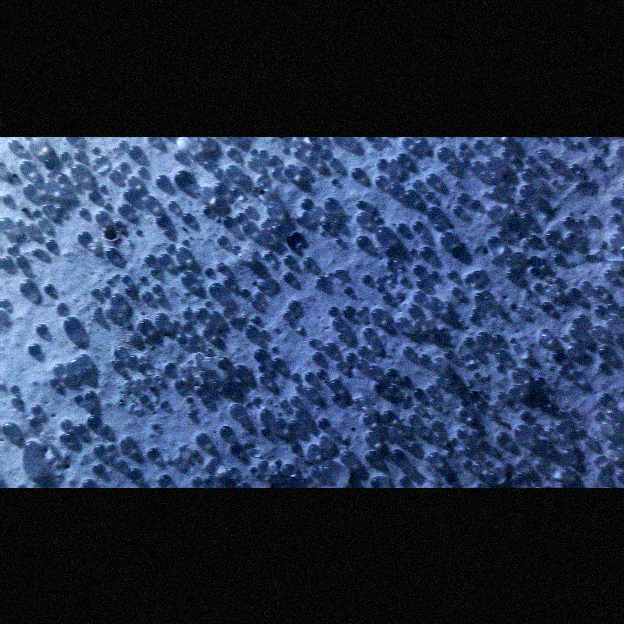GrassBeadSeg: (319, 459, 340, 479), (367, 307, 387, 322), (171, 169, 190, 184), (285, 231, 301, 248), (509, 366, 527, 381), (207, 282, 225, 297), (373, 226, 392, 240), (434, 146, 451, 161), (26, 140, 45, 153), (512, 424, 528, 439), (223, 164, 240, 178), (62, 315, 79, 329), (484, 156, 502, 169), (120, 187, 138, 200), (89, 156, 107, 169), (197, 185, 212, 200), (264, 202, 280, 216), (437, 231, 453, 245), (139, 195, 156, 208), (152, 174, 169, 187), (117, 435, 134, 448), (226, 403, 243, 416), (338, 450, 355, 463), (152, 312, 169, 325), (505, 251, 522, 264), (229, 364, 247, 376), (542, 229, 558, 242), (18, 279, 34, 292), (172, 246, 188, 259), (125, 145, 141, 158), (385, 182, 401, 195), (108, 293, 124, 306), (280, 164, 296, 177), (18, 161, 34, 174), (603, 315, 619, 328), (0, 421, 16, 434), (416, 246, 433, 258), (339, 305, 356, 317), (353, 211, 370, 223), (135, 319, 152, 331), (586, 324, 603, 336), (485, 205, 502, 217), (563, 343, 580, 355), (257, 279, 274, 291), (322, 196, 337, 209), (242, 324, 257, 337), (75, 231, 91, 243), (192, 432, 208, 444), (102, 246, 118, 258), (424, 205, 440, 217), (519, 167, 535, 179), (73, 353, 89, 365), (362, 431, 378, 443), (85, 414, 101, 426), (566, 324, 582, 336), (392, 317, 409, 328), (192, 307, 206, 320), (252, 348, 266, 361), (25, 342, 40, 354), (93, 210, 108, 222), (153, 214, 168, 226), (111, 346, 126, 358), (216, 424, 231, 436), (360, 326, 375, 338), (239, 221, 254, 233), (308, 205, 323, 217), (353, 235, 369, 246), (562, 232, 578, 243), (504, 268, 520, 279), (595, 345, 611, 356), (533, 148, 549, 159), (329, 317, 345, 328), (388, 449, 404, 460), (413, 276, 430, 286), (486, 468, 499, 481), (327, 378, 340, 391), (468, 160, 481, 173), (402, 189, 415, 202), (179, 272, 192, 285), (212, 181, 225, 194), (298, 197, 312, 209), (155, 253, 169, 265), (295, 211, 307, 225), (299, 256, 314, 267), (410, 290, 425, 301), (518, 184, 533, 195), (405, 303, 420, 314), (590, 285, 605, 296), (77, 368, 92, 379), (270, 418, 285, 429), (270, 222, 285, 233), (115, 203, 131, 213), (564, 287, 580, 297), (53, 301, 66, 313), (13, 254, 26, 266), (426, 451, 438, 464), (72, 149, 85, 161), (493, 349, 505, 362), (405, 413, 419, 424), (51, 362, 65, 373), (394, 153, 408, 164), (214, 356, 228, 367), (0, 254, 11, 268), (279, 271, 294, 281), (409, 263, 424, 273), (423, 173, 438, 183), (518, 213, 533, 223), (107, 169, 122, 179), (533, 458, 545, 470), (494, 431, 506, 443), (406, 442, 418, 454), (363, 451, 375, 463), (368, 475, 380, 487), (380, 410, 392, 422), (361, 412, 373, 424), (318, 435, 330, 447), (315, 417, 327, 429), (280, 462, 292, 474), (322, 342, 334, 354), (431, 357, 443, 369), (474, 331, 486, 343), (455, 192, 468, 203), (550, 252, 563, 263), (209, 166, 222, 177), (199, 136, 212, 147), (238, 249, 251, 260), (178, 212, 192, 222), (460, 336, 474, 346), (281, 254, 295, 264), (223, 146, 237, 156), (398, 136, 412, 146), (312, 368, 326, 378), (286, 419, 300, 429), (244, 157, 258, 167), (601, 269, 615, 279), (431, 221, 445, 231), (449, 204, 463, 214), (456, 352, 470, 362), (383, 246, 397, 256), (506, 384, 521, 393), (214, 234, 226, 245), (305, 443, 316, 455), (203, 461, 214, 473), (228, 442, 239, 454), (158, 473, 170, 484), (126, 466, 138, 477), (374, 158, 386, 169), (349, 167, 361, 178), (43, 239, 56, 249), (33, 323, 46, 333), (470, 139, 483, 149), (393, 222, 406, 232), (172, 378, 185, 388), (257, 373, 270, 383), (318, 148, 331, 158), (110, 359, 123, 369), (200, 326, 213, 336), (292, 407, 305, 417), (126, 332, 139, 342), (220, 381, 233, 391), (460, 273, 473, 283), (444, 269, 458, 278), (220, 216, 234, 225), (265, 155, 279, 164), (0, 216, 11, 227), (92, 443, 103, 454), (91, 462, 102, 473), (42, 179, 53, 190), (374, 175, 385, 186), (221, 275, 232, 286), (142, 253, 154, 263), (409, 220, 421, 230), (162, 362, 174, 372), (0, 193, 12, 203), (327, 157, 339, 167), (179, 307, 191, 317), (174, 333, 186, 343), (27, 415, 39, 425), (72, 423, 84, 433), (58, 419, 70, 429), (23, 440, 35, 450), (607, 234, 619, 244), (548, 158, 560, 168), (448, 286, 461, 295), (28, 404, 41, 413), (440, 349, 453, 358), (588, 155, 601, 164), (125, 175, 138, 184), (171, 150, 184, 159), (268, 167, 281, 176), (433, 375, 446, 384), (331, 219, 344, 228), (153, 294, 166, 303), (80, 478, 93, 487), (215, 261, 226, 271), (190, 475, 200, 486), (145, 447, 156, 457), (40, 204, 51, 214), (87, 190, 98, 200), (7, 140, 18, 150), (21, 184, 32, 194), (207, 310, 217, 321), (180, 321, 190, 332), (258, 409, 269, 419), (304, 386, 315, 396), (373, 380, 384, 390), (507, 217, 517, 228), (314, 276, 325, 286), (41, 283, 53, 292), (326, 306, 338, 315), (517, 410, 529, 419), (297, 166, 309, 175), (499, 148, 511, 157), (115, 161, 127, 170), (467, 390, 479, 399), (200, 205, 212, 214), (83, 389, 95, 398), (495, 227, 507, 236), (163, 242, 175, 251), (55, 173, 67, 182), (354, 199, 366, 208), (188, 151, 200, 160), (194, 384, 206, 393), (164, 200, 177, 208), (577, 280, 590, 288), (29, 248, 42, 256), (514, 198, 527, 206), (96, 182, 106, 192), (71, 164, 81, 174), (288, 395, 298, 405), (271, 357, 281, 367), (288, 299, 298, 309), (302, 371, 312, 381), (311, 352, 321, 362), (344, 352, 354, 362), (411, 387, 421, 397), (417, 354, 427, 364), (401, 345, 411, 355), (76, 207, 87, 216), (135, 166, 146, 175), (47, 376, 58, 385), (359, 273, 370, 282), (233, 211, 244, 220), (329, 392, 340, 401), (366, 365, 377, 374), (585, 136, 599, 143), (135, 393, 147, 401), (161, 227, 173, 235), (425, 270, 437, 278), (187, 335, 199, 343), (474, 400, 486, 408), (233, 379, 245, 387), (119, 273, 129, 282), (373, 283, 383, 292), (126, 354, 136, 363), (614, 470, 623, 480), (614, 145, 623, 155), (148, 267, 158, 276), (150, 284, 160, 293), (220, 306, 230, 315), (357, 345, 367, 354), (384, 368, 394, 377), (242, 205, 253, 213), (371, 216, 382, 224), (556, 366, 567, 374), (424, 385, 435, 393), (570, 140, 581, 148), (428, 420, 437, 429), (397, 476, 406, 485), (308, 466, 317, 475), (289, 442, 298, 451), (257, 460, 266, 469), (224, 468, 233, 477), (203, 475, 212, 484), (189, 449, 198, 458), (114, 459, 123, 468), (123, 285, 132, 294), (140, 291, 149, 300), (472, 292, 481, 301), (523, 155, 532, 164), (585, 214, 594, 223), (411, 179, 420, 188), (306, 337, 316, 345), (88, 287, 98, 295), (320, 221, 330, 229), (116, 139, 126, 147), (140, 376, 150, 384), (186, 410, 196, 418), (544, 403, 554, 411), (7, 384, 18, 391), (201, 267, 212, 274), (341, 286, 352, 293), (71, 394, 82, 401), (607, 213, 618, 220), (495, 391, 506, 398), (9, 396, 20, 403), (267, 465, 276, 473), (7, 244, 15, 253), (256, 363, 265, 371), (278, 399, 287, 407), (293, 383, 302, 391), (250, 315, 259, 323), (398, 376, 407, 384), (386, 385, 395, 393), (534, 376, 542, 385), (575, 313, 583, 322), (568, 164, 576, 173), (559, 138, 568, 146), (527, 234, 535, 243), (486, 235, 494, 244), (422, 191, 431, 199), (229, 187, 238, 195), (398, 276, 407, 284), (380, 292, 389, 300), (88, 146, 98, 153), (111, 220, 121, 227), (333, 237, 343, 244), (0, 298, 8, 306), (600, 419, 608, 427), (614, 444, 622, 452), (559, 467, 567, 475), (557, 435, 565, 443), (543, 427, 551, 435), (561, 448, 569, 456), (482, 458, 490, 466), (513, 472, 521, 480), (467, 431, 475, 439), (466, 416, 474, 424), (455, 430, 463, 438), (31, 208, 39, 216), (43, 157, 51, 165), (20, 150, 28, 158), (58, 151, 66, 159), (251, 396, 259, 404), (259, 427, 267, 435), (334, 361, 342, 369), (336, 331, 344, 339), (355, 359, 363, 367), (531, 282, 539, 290), (540, 302, 548, 310), (491, 334, 499, 342), (551, 351, 559, 359), (539, 332, 547, 340), (592, 305, 600, 313), (562, 217, 570, 225), (489, 174, 497, 182), (487, 189, 495, 197), (458, 158, 466, 166), (444, 162, 452, 170), (469, 200, 477, 208), (525, 256, 533, 264), (415, 202, 423, 210), (239, 288, 247, 296), (290, 372, 298, 380), (406, 247, 415, 254), (230, 245, 239, 252), (358, 306, 367, 313), (198, 370, 207, 377), (209, 380, 218, 387), (608, 197, 617, 204), (252, 292, 262, 298), (158, 399, 168, 405), (279, 145, 287, 152), (137, 355, 145, 362), (574, 428, 582, 435), (606, 439, 614, 446), (568, 407, 576, 414), (530, 423, 538, 430), (591, 456, 599, 463), (582, 437, 590, 444), (592, 412, 600, 419), (605, 408, 613, 415), (598, 393, 606, 400), (554, 422, 562, 429), (457, 408, 465, 415), (100, 424, 108, 431), (457, 141, 464, 149), (101, 203, 110, 209), (149, 422, 158, 428), (203, 348, 212, 354), (93, 306, 100, 313), (106, 443, 113, 450), (104, 307, 111, 314), (116, 314, 123, 321), (169, 320, 176, 327), (227, 317, 234, 324), (192, 352, 199, 359), (258, 328, 265, 335), (281, 311, 288, 318), (249, 298, 256, 305), (175, 263, 182, 270), (329, 178, 337, 184), (473, 461, 480, 467), (415, 425, 422, 431), (248, 466, 255, 472), (203, 300, 210, 306), (214, 325, 221, 331), (204, 358, 211, 364), (471, 371, 478, 377), (305, 152, 312, 158), (317, 136, 324, 142), (289, 139, 296, 145), (248, 148, 255, 154), (257, 150, 264, 156), (202, 160, 209, 166), (331, 269, 337, 276), (449, 437, 455, 443), (461, 460, 467, 466), (470, 467, 476, 473), (433, 433, 439, 439), (428, 399, 434, 405), (341, 438, 347, 444), (320, 451, 326, 457), (303, 475, 309, 481), (273, 458, 279, 464), (177, 444, 183, 450), (32, 178, 38, 184), (25, 222, 31, 228), (105, 277, 111, 283), (138, 275, 144, 281), (259, 221, 265, 227), (14, 219, 21, 224), (37, 218, 44, 223), (291, 149, 298, 154), (396, 430, 402, 435), (411, 405, 417, 410), (352, 398, 358, 403), (64, 432, 70, 437), (59, 433, 64, 439), (55, 206, 61, 211), (36, 192, 42, 197), (46, 171, 52, 176), (134, 229, 140, 234), (152, 375, 158, 380), (184, 397, 190, 402), (237, 395, 243, 400), (402, 396, 407, 402), (443, 303, 449, 308), (467, 314, 473, 319), (471, 305, 477, 310), (549, 284, 555, 289), (514, 307, 520, 312), (477, 346, 483, 351), (560, 334, 566, 339), (605, 302, 611, 307), (494, 364, 500, 369), (607, 261, 613, 266), (607, 246, 613, 251), (614, 224, 620, 229), (573, 219, 579, 224), (586, 179, 592, 184), (503, 204, 509, 209), (488, 257, 494, 262), (527, 267, 533, 272), (387, 159, 393, 164), (180, 239, 186, 244), (138, 362, 144, 367), (130, 401, 136, 406), (122, 380, 128, 385), (555, 410, 560, 415), (465, 445, 470, 450), (105, 453, 110, 458), (113, 273, 118, 278), (186, 359, 191, 364), (185, 365, 190, 370), (244, 401, 249, 406), (418, 330, 423, 335), (438, 326, 443, 331), (425, 313, 430, 318), (436, 301, 441, 306), (428, 326, 433, 331), (524, 292, 529, 297), (555, 291, 560, 296), (544, 289, 549, 294), (483, 295, 488, 300), (508, 336, 513, 341), (552, 277, 557, 282), (573, 184, 578, 189), (549, 180, 554, 185), (508, 185, 513, 190), (481, 191, 486, 196), (515, 231, 520, 236), (381, 138, 386, 143), (416, 139, 421, 144), (370, 141, 375, 146), (250, 279, 255, 284), (134, 379, 139, 384), (275, 411, 280, 416), (64, 161, 70, 165), (316, 445, 321, 449), (101, 286, 106, 290), (101, 290, 106, 294), (270, 346, 275, 350), (255, 176, 260, 180), (263, 188, 268, 192), (328, 427, 332, 431), (72, 182, 76, 186), (568, 372, 572, 376), (250, 186, 254, 190), (259, 182, 263, 186), (255, 184, 259, 188), (318, 231, 322, 235), (326, 272, 330, 276), (252, 250, 256, 254), (265, 252, 269, 256), (264, 217, 268, 221), (260, 227, 264, 231), (268, 233, 272, 237), (215, 218, 219, 222), (419, 233, 423, 237), (386, 273, 390, 277), (392, 260, 396, 264), (398, 263, 402, 267), (381, 274, 385, 278), (375, 278, 379, 282), (349, 426, 353, 429), (359, 397, 362, 401), (60, 184, 64, 187), (179, 364, 183, 367), (285, 308, 289, 311), (487, 309, 490, 313), (511, 343, 515, 346), (142, 336, 146, 339), (90, 316, 93, 320), (387, 280, 390, 284), (243, 442, 246, 445), (185, 446, 188, 449), (128, 478, 131, 481), (199, 359, 202, 362), (176, 374, 179, 377), (177, 371, 180, 374), (187, 403, 190, 406), (202, 395, 205, 398), (495, 303, 498, 306), (508, 302, 511, 305), (525, 308, 528, 311), (542, 284, 545, 287), (550, 297, 553, 300), (124, 190, 128, 192)
